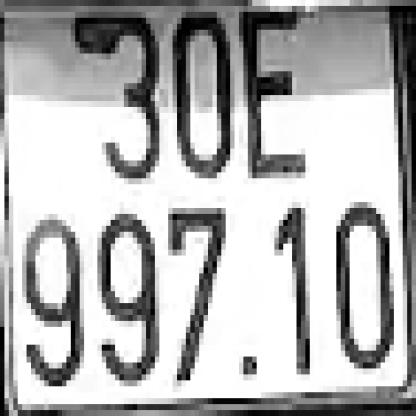0: (328, 202, 390, 369), (173, 12, 230, 184)
1: (261, 208, 319, 368)
3: (106, 18, 164, 178)
7: (168, 208, 221, 374)
9: (98, 214, 160, 380), (22, 214, 84, 380)
E: (239, 12, 301, 178)
